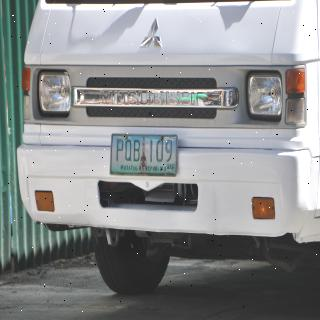license: (111, 135, 178, 177)
